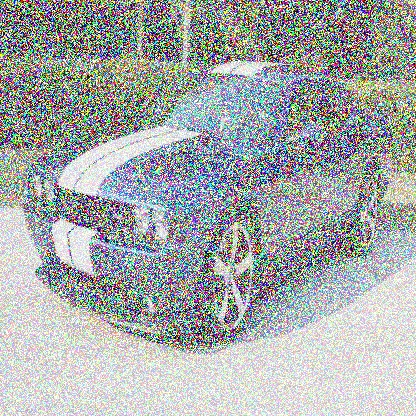Vehicle: (22, 58, 398, 349)
